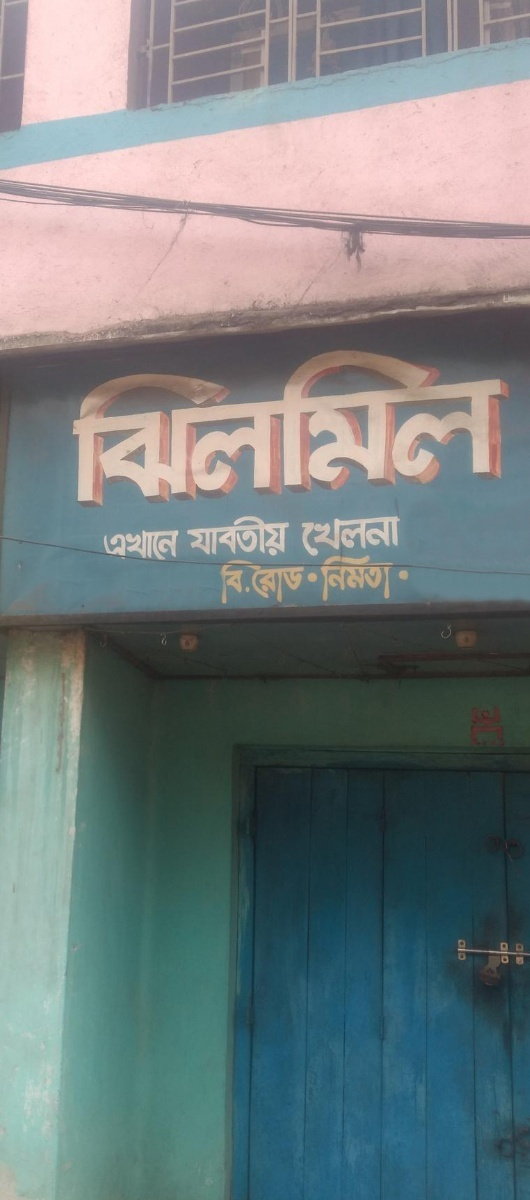text: (81, 338, 96, 522), (97, 338, 112, 522), (113, 338, 128, 522), (129, 338, 144, 522), (145, 338, 160, 522), (161, 338, 176, 522), (177, 338, 192, 522), (193, 338, 208, 522), (209, 338, 224, 522), (225, 338, 240, 522), (241, 338, 256, 522), (257, 338, 272, 522), (273, 338, 288, 522), (289, 338, 304, 522), (305, 338, 320, 522), (321, 338, 336, 522), (337, 338, 352, 522), (353, 338, 368, 522), (369, 338, 384, 522), (385, 338, 400, 522), (401, 338, 416, 522), (417, 338, 432, 522), (433, 338, 448, 522), (449, 338, 464, 522), (465, 338, 480, 522), (481, 338, 496, 522), (497, 338, 512, 522), (66, 338, 80, 522), (321, 551, 336, 604), (337, 551, 352, 604), (353, 551, 368, 604), (369, 551, 384, 604), (385, 551, 400, 604), (401, 551, 416, 604), (193, 512, 208, 562), (209, 512, 224, 562), (225, 512, 240, 562), (241, 512, 256, 562), (257, 512, 272, 562), (273, 512, 288, 562), (513, 338, 517, 522), (225, 560, 240, 607), (241, 560, 256, 607), (305, 514, 320, 559), (321, 514, 336, 559), (337, 514, 352, 559), (353, 514, 368, 559), (369, 514, 384, 559), (385, 514, 400, 559), (97, 523, 112, 565), (113, 523, 128, 565), (129, 523, 144, 565), (145, 523, 160, 565), (161, 523, 176, 565), (257, 564, 272, 605), (273, 564, 288, 605), (289, 564, 304, 605), (465, 704, 480, 745), (481, 704, 496, 745), (497, 704, 511, 745), (305, 564, 318, 605), (257, 560, 265, 607), (297, 514, 304, 559), (186, 512, 192, 562), (289, 512, 295, 562), (177, 523, 183, 565), (219, 560, 224, 607), (401, 514, 405, 559), (252, 564, 256, 605), (317, 551, 320, 604), (417, 551, 418, 604)
